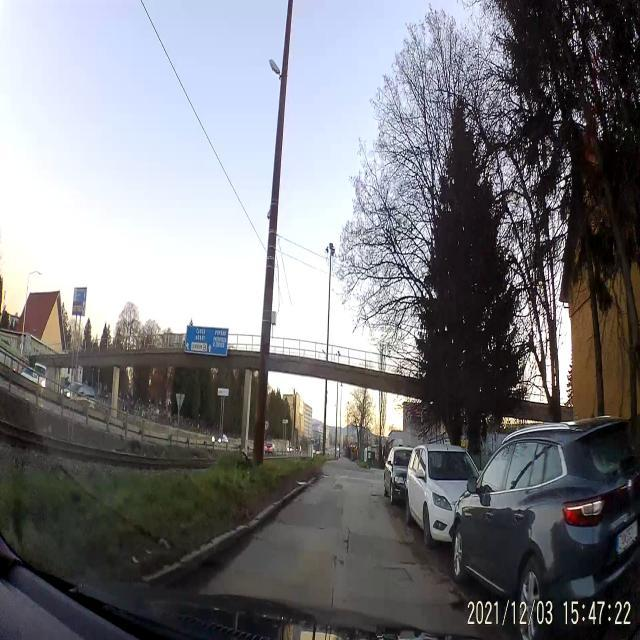Manhole: (381, 563, 416, 590), (332, 480, 344, 492)
